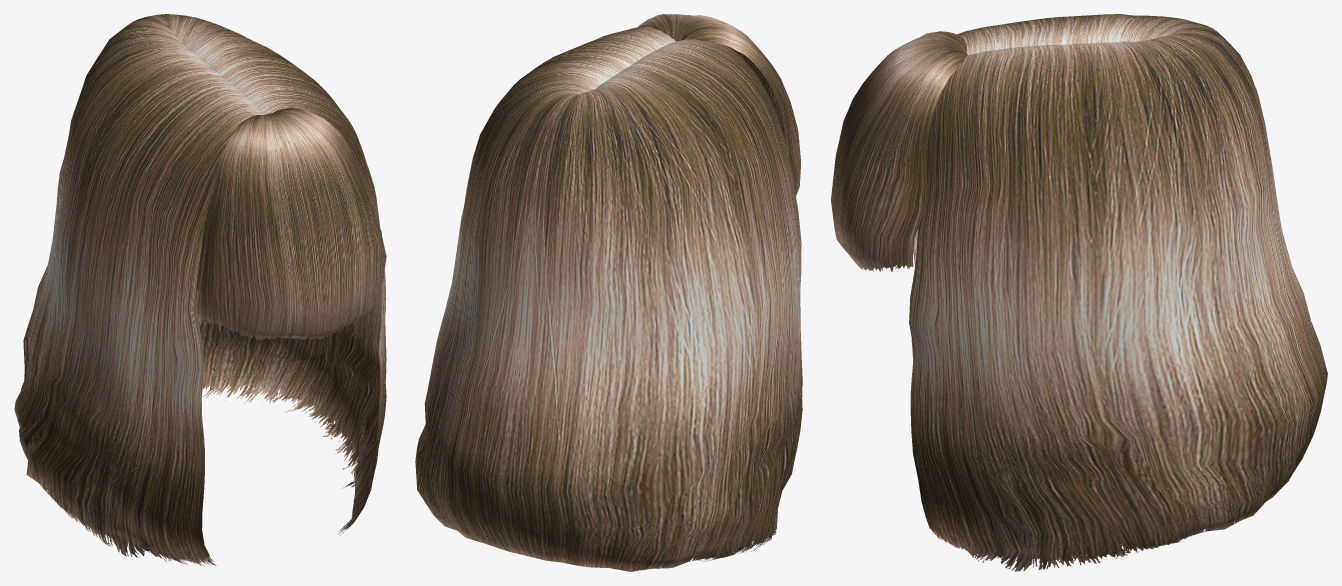
The model's file is mh_toigo_curled_under_bob_with_bangs.glb.
3 views of the same model, side by side, from view 1: azimuth 30°, elevation 25°; view 2: azimuth 150°, elevation 25°; view 3: azimuth 270°, elevation 25° (orthographic). The views are drawn at different scales.
Visible parts, largest first — view 1: mh_toigo_curled_under_bob_with_bangs; view 2: mh_toigo_curled_under_bob_with_bangs; view 3: mh_toigo_curled_under_bob_with_bangs.
Boxes of the visible parts, x1,y1,x2,y2 form: mh_toigo_curled_under_bob_with_bangs: (14,14,386,566); mh_toigo_curled_under_bob_with_bangs: (415,14,802,571); mh_toigo_curled_under_bob_with_bangs: (831,14,1327,571).
Bounding box in the file's own units: 0.2016 × 0.2946 × 0.2661.
Materials: 1 (1 with a texture image).
